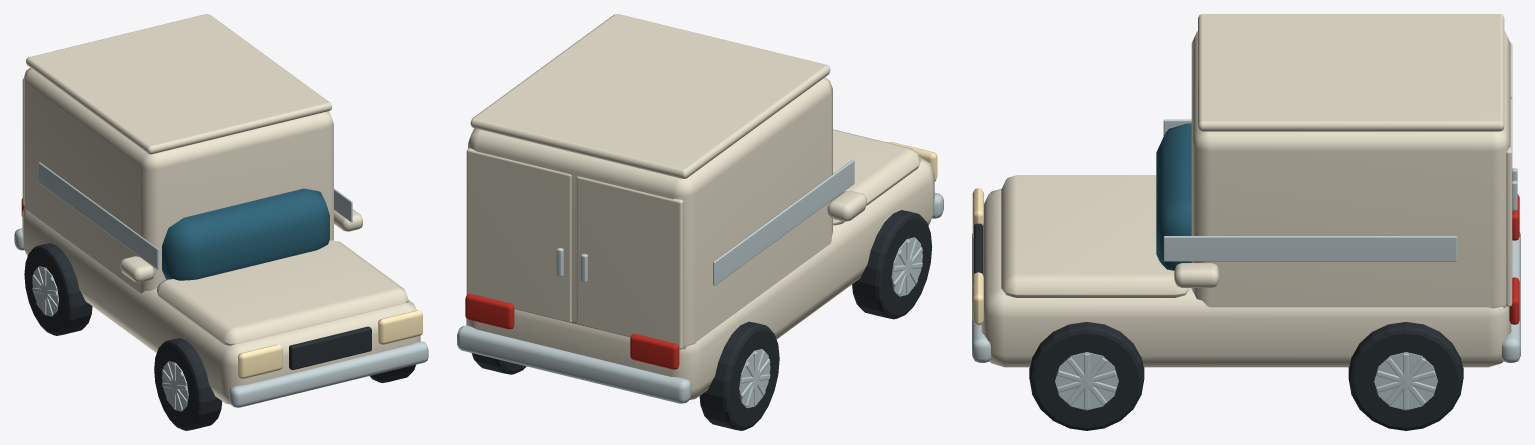
The model's file is mariner-van.glb.
The picture shows the model from 3 angles, left to right: view 1: azimuth 30°, elevation 25°; view 2: azimuth 150°, elevation 25°; view 3: azimuth 270°, elevation 25°; orthographic projection. The views are drawn at different scales.
Visible parts, largest first — view 1: mariner-van paint, Midnight blue glass.005, Satin alloy.005, TireMeshRL, TireMeshFL, Ivory headlights.005, Rubber.005, TireMeshFR; view 2: mariner-van paint, Satin alloy.005, TireMeshFL, TireMeshRL, Red tail lamps.005, TireMeshRR; view 3: mariner-van paint, TireMeshFR, TireMeshRR, Satin alloy.005, Midnight blue glass.005, Ivory headlights.005, Red tail lamps.005.
Part boxes in pixels (x1=…): mariner-van paint: x1=22, y1=14, x2=420, y2=404; Midnight blue glass.005: x1=162, y1=188, x2=329, y2=280; Satin alloy.005: x1=14, y1=162, x2=428, y2=407; TireMeshRL: x1=24, y1=243, x2=92, y2=335; TireMeshFL: x1=154, y1=338, x2=222, y2=430; Ivory headlights.005: x1=238, y1=310, x2=422, y2=378; Rubber.005: x1=289, y1=326, x2=371, y2=369; TireMeshFR: x1=370, y1=364, x2=415, y2=382; mariner-van paint: x1=466, y1=14, x2=934, y2=399; Satin alloy.005: x1=457, y1=159, x2=943, y2=403; TireMeshFL: x1=852, y1=210, x2=931, y2=319; TireMeshRL: x1=699, y1=321, x2=779, y2=430; Red tail lamps.005: x1=465, y1=293, x2=679, y2=369; TireMeshRR: x1=471, y1=353, x2=526, y2=374; mariner-van paint: x1=981, y1=14, x2=1512, y2=367; TireMeshFR: x1=1029, y1=322, x2=1144, y2=430; TireMeshRR: x1=1348, y1=322, x2=1463, y2=430; Satin alloy.005: x1=972, y1=119, x2=1520, y2=362; Midnight blue glass.005: x1=1156, y1=123, x2=1191, y2=270; Ivory headlights.005: x1=972, y1=188, x2=983, y2=325; Red tail lamps.005: x1=1509, y1=194, x2=1519, y2=324.
Bounding box in the file's own units: 2.55 × 2.58 × 4.3.
